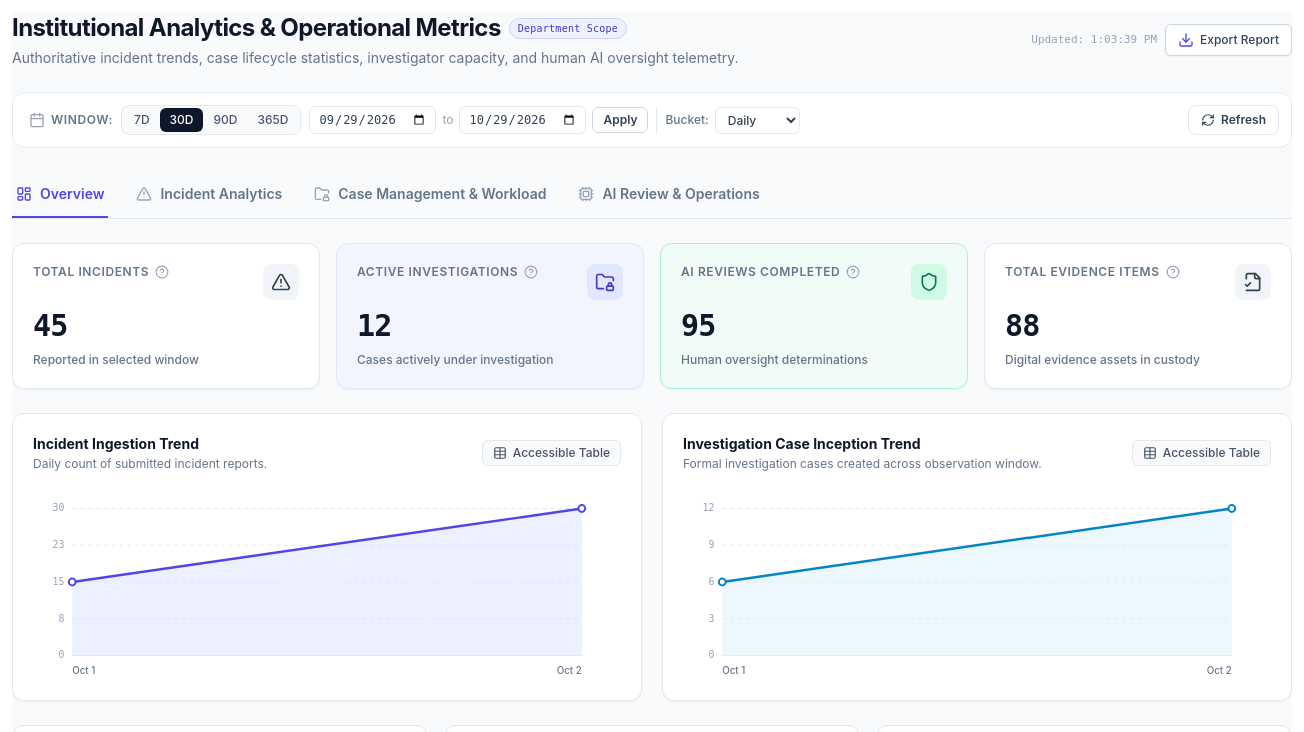
Test: AnalyticsDashboardView Component › navigates to AI Review & Operations tab and displays statutory disclaimer and review metrics
Check: the text "45" is shown, box [33, 308, 68, 344]
Click AI Review & Operations tab
Click the button "AI Review & Operations" at [669, 195], box [574, 172, 764, 218]
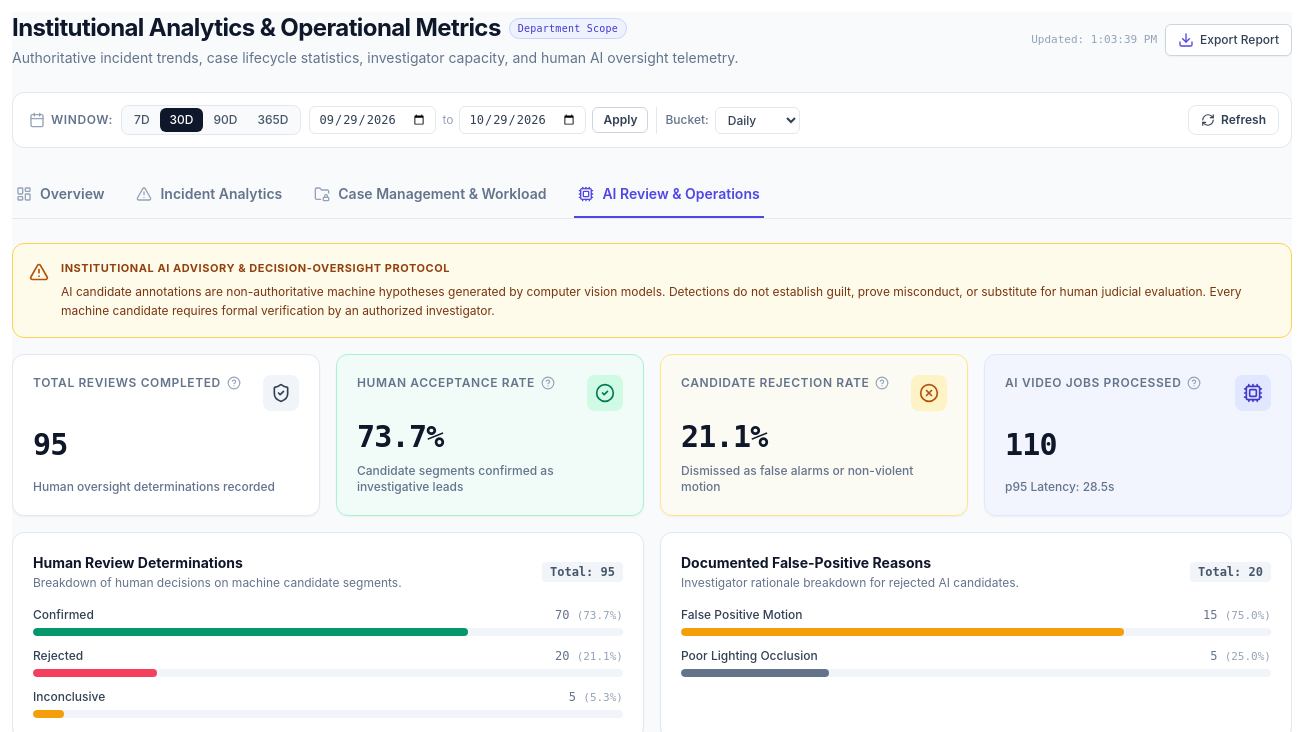
Check: the text "Institutional AI Advisory & Decision-Oversight Protocol" is shown, box [61, 261, 450, 275]
Check: the text "AI candidate annotations are non-authoritative machine hypotheses" is shown, box [61, 284, 1242, 318]
Check: the text "73.7%" is shown, box [357, 419, 444, 455]
